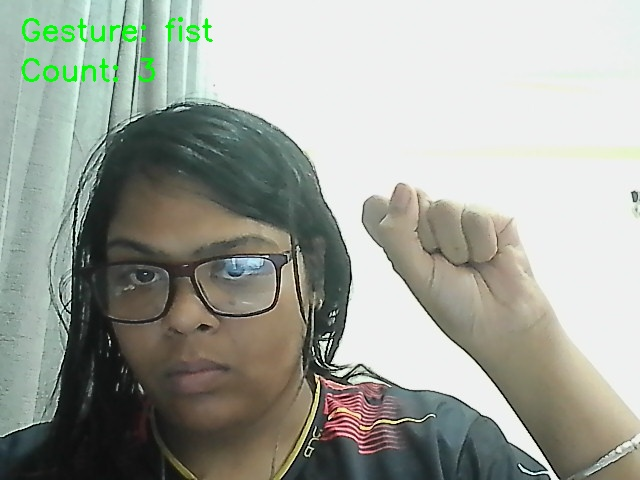fist: (346, 147, 612, 364)
